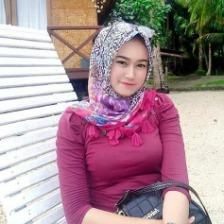Non Syar-i: (62, 21, 158, 138)
